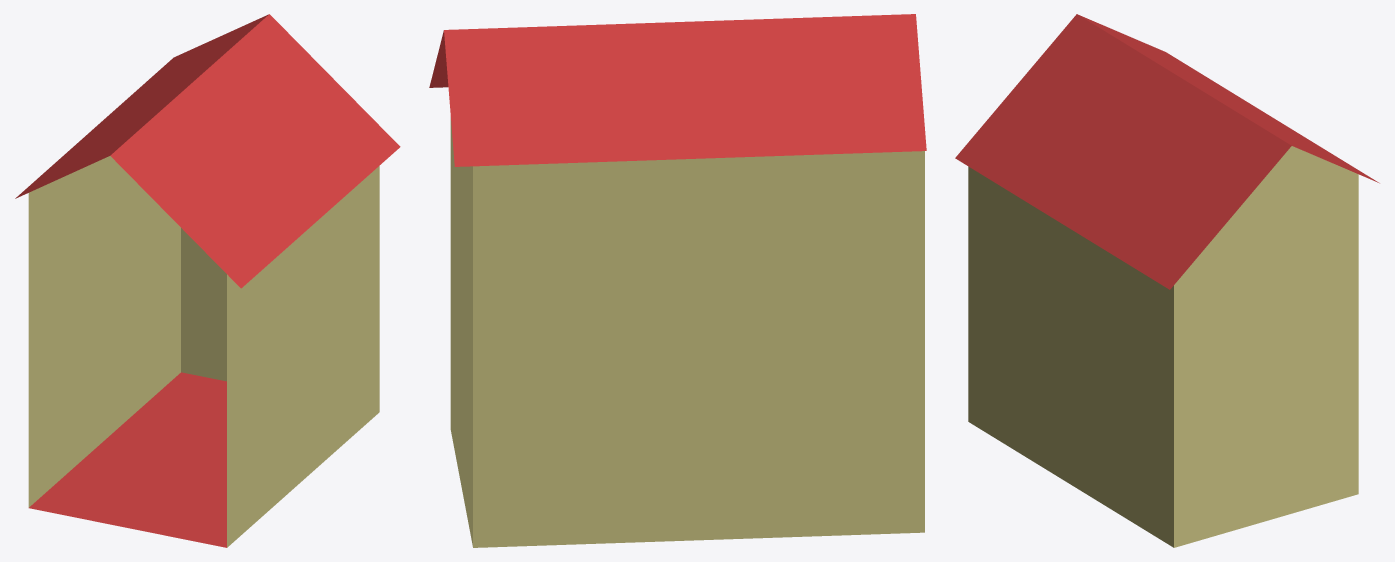
3 views of the same model, side by side, from view 1: azimuth 30°, elevation 25°; view 2: azimuth 150°, elevation 25°; view 3: azimuth 270°, elevation 25° (orthographic). The views are drawn at different scales.
Size of the model in its own units: 7.17 by 6.67 by 6.5.
